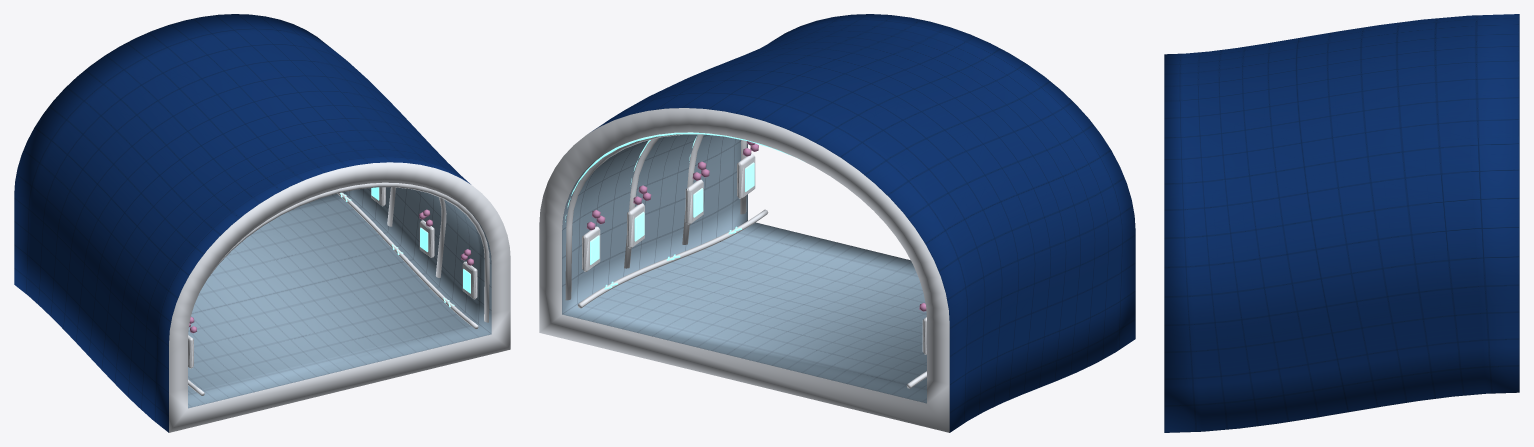
File: grade_up_lod1.glb
The picture shows the model from 3 angles, left to right: view 1: azimuth 30°, elevation 25°; view 2: azimuth 150°, elevation 25°; view 3: azimuth 270°, elevation 25°; orthographic projection. The views are drawn at different scales.
Parts seen in each view (by area): view 1: TunnelGeometry.001; view 2: TunnelGeometry.001; view 3: TunnelGeometry.001.
Part boxes in pixels (bbox=[...]): TunnelGeometry.001: bbox=[14, 14, 510, 432]; TunnelGeometry.001: bbox=[539, 14, 1135, 432]; TunnelGeometry.001: bbox=[1164, 14, 1519, 432].
Size of the model in its own units: 15.3 by 11.02 by 12.
5 materials, 2 textured.
